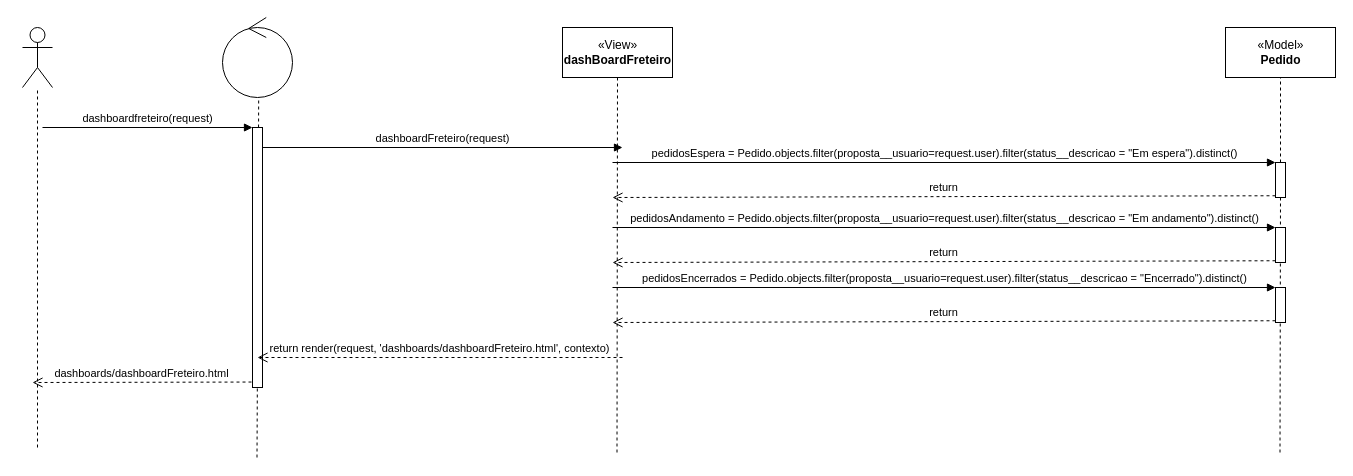
The diagram is 1353 pixels wide and 476 high, and some of its shapes have lost their labels. Here are the shapes that lost their labels. From the top down, the centre of each, then its label:
(37,57): Freteiro
(257,57): Django Control
